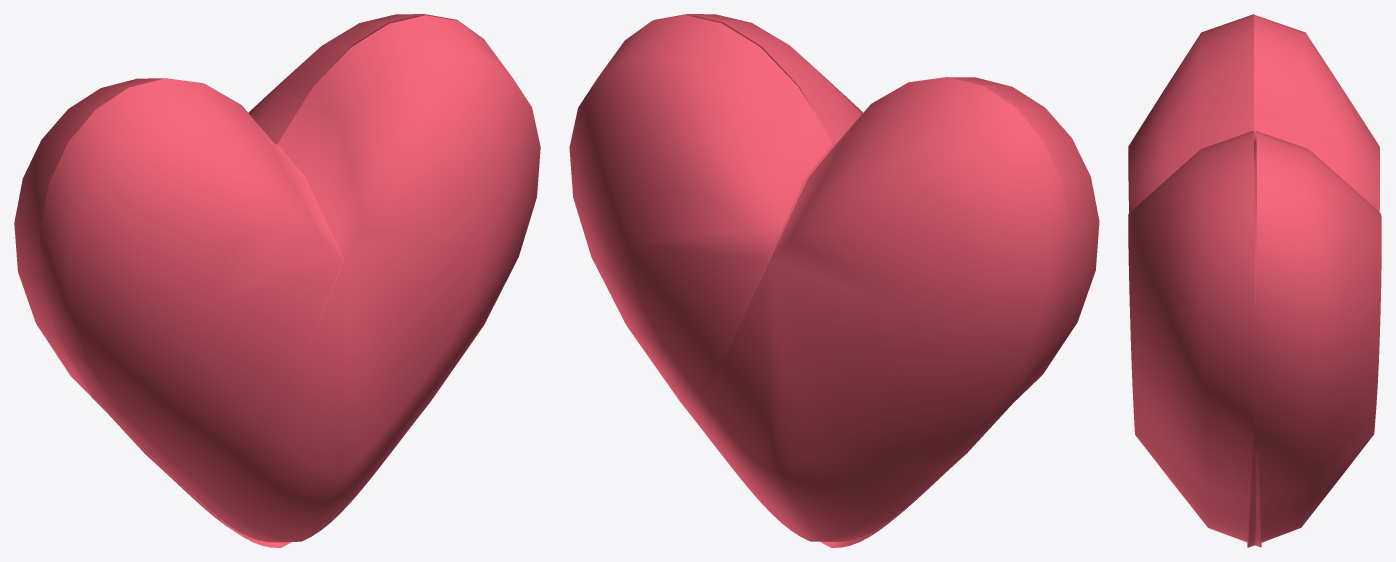
Rendered from Aero Heart.glb.
The picture shows the model from 3 angles, left to right: view 1: azimuth 30°, elevation 25°; view 2: azimuth 150°, elevation 25°; view 3: azimuth 270°, elevation 25°; orthographic projection. The views are drawn at different scales.
Parts seen in each view (by area): view 1: obj_0%2E001; view 2: obj_0%2E001; view 3: obj_0%2E001.
Boxes of the visible parts, x1,y1,x2,y2 form: obj_0%2E001: (14, 14, 540, 547); obj_0%2E001: (569, 14, 1099, 547); obj_0%2E001: (1128, 14, 1381, 547).
Size of the model in its own units: 15.02 by 15 by 7.46.
